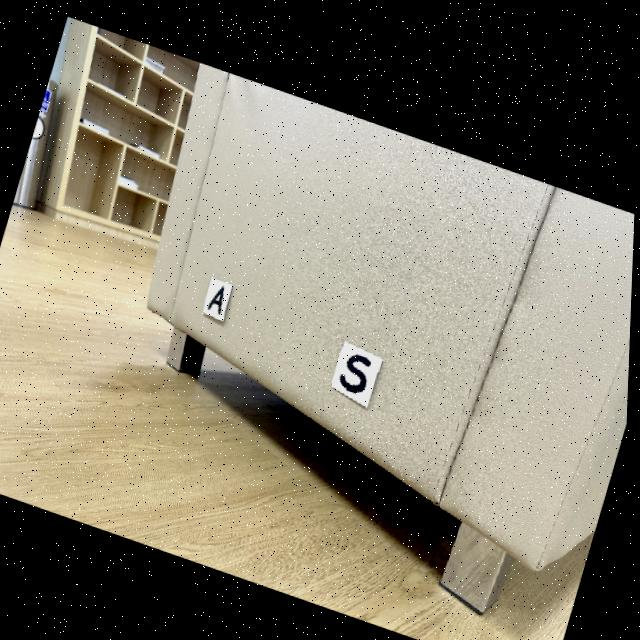A: (209, 281, 227, 310)
S: (341, 347, 373, 385)
